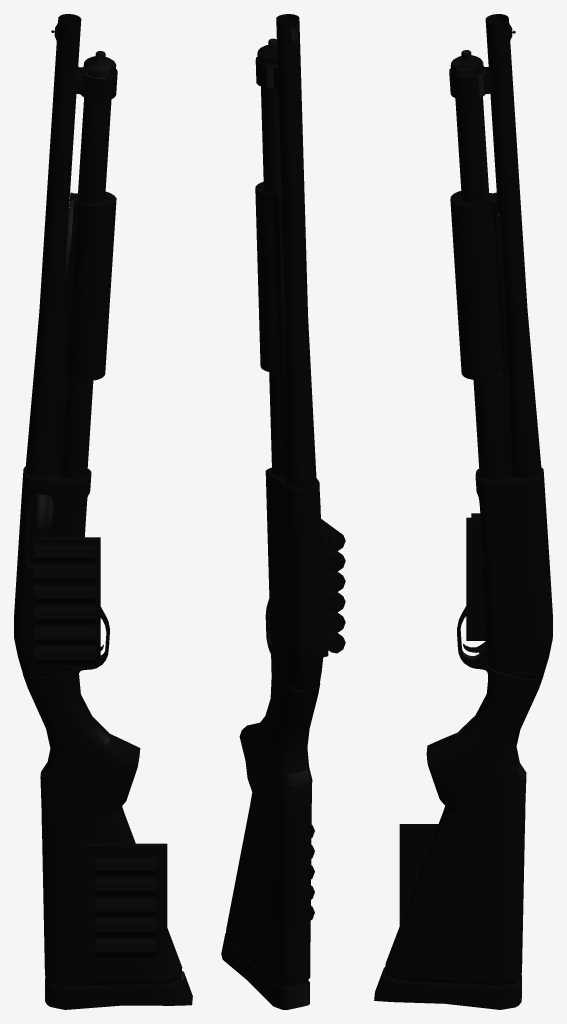
Rendered from Rem870__ShellHolder_Butt__Sidesaddle_Shotgun.fbx.
The picture shows the model from 3 angles, left to right: view 1: azimuth 90°, elevation 25°; view 2: azimuth 210°, elevation 25°; view 3: azimuth 270°, elevation 25°; orthographic projection.
Visible parts, largest first — view 1: asset_Rem870.001; view 2: asset_Rem870.001; view 3: asset_Rem870.001.
Part boxes in pixels (left/top/right/bottom): asset_Rem870.001: left=14, top=14, right=192, bottom=1009; asset_Rem870.001: left=221, top=14, right=345, bottom=1009; asset_Rem870.001: left=374, top=14, right=552, bottom=1009.
Size of the model in its own units: 0.0389 by 0.636 by 0.1048.
